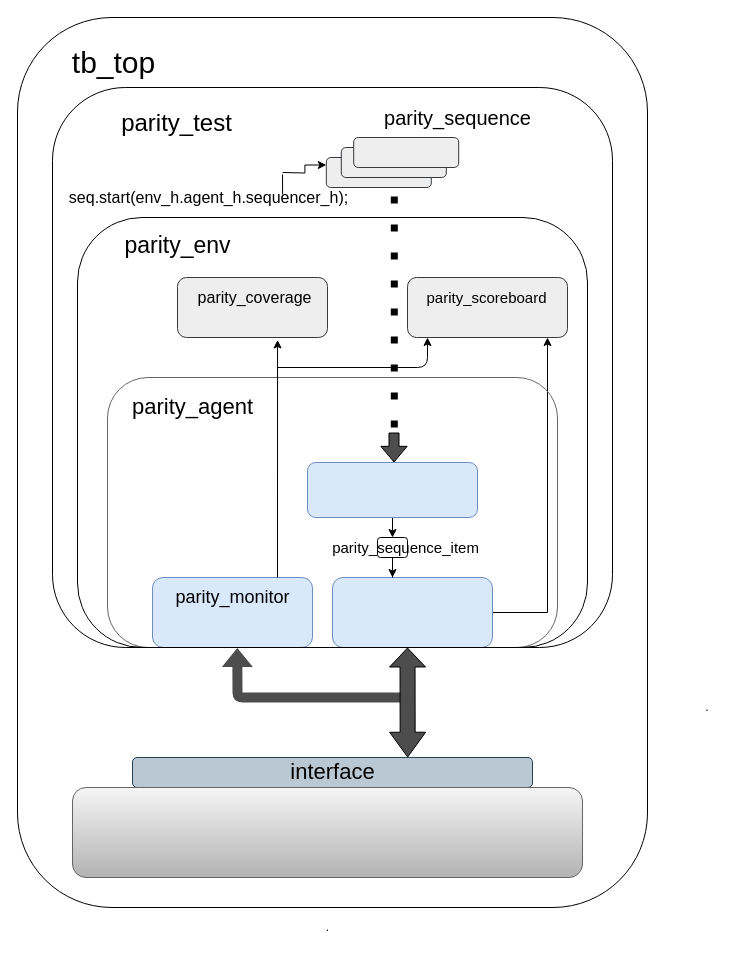
This 745x955 diagram has some shape labels left out. Here are the shapes that lost their labels. From the top down, the centre of each, then its label:
point 392,490: parity_sequencer
point 412,612: parity_driver
point 327,832: PARITY GENERATOR (DUT)
